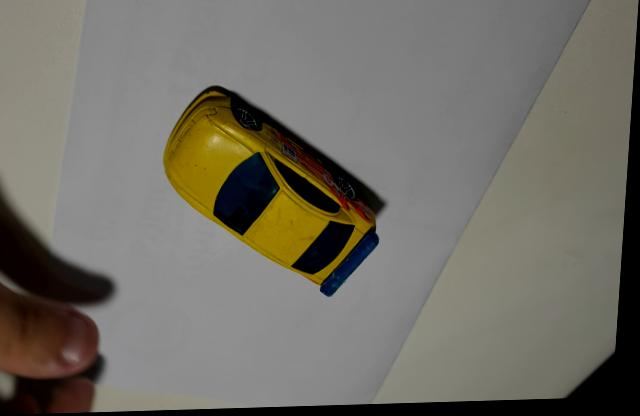02_OZSOME: (164, 85, 389, 299)
